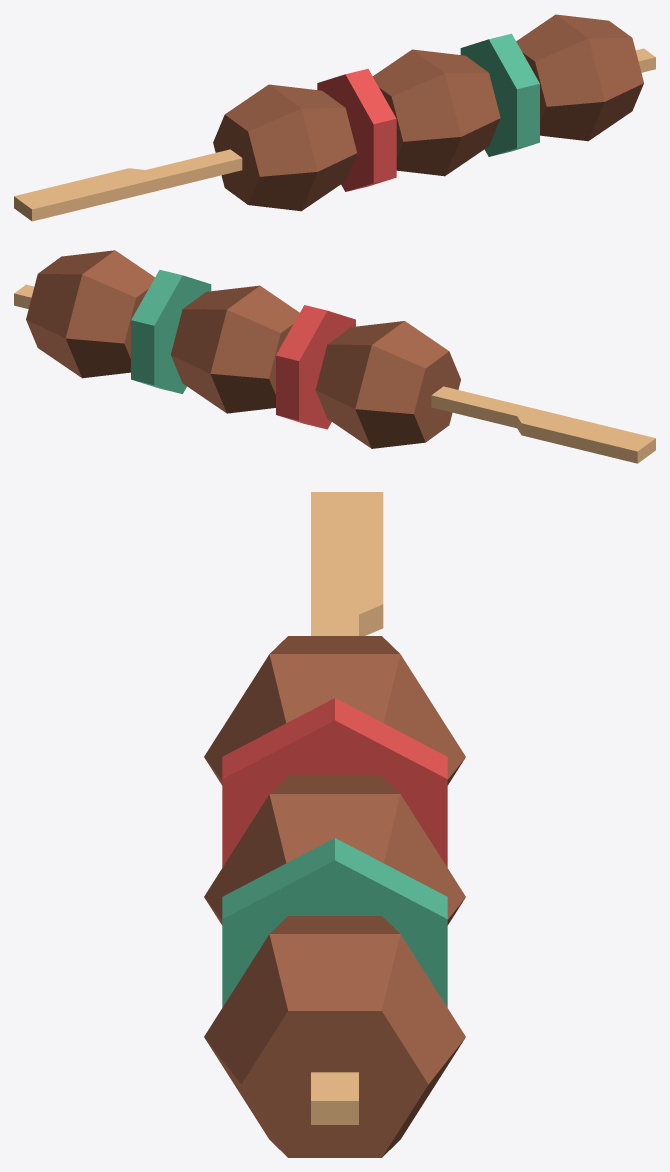
File: skewerVegetables.obj
3 renders of one model, top to bottom at view 1: azimuth 30°, elevation 25°; view 2: azimuth 150°, elevation 25°; view 3: azimuth 270°, elevation 25°, orthographic. The views are drawn at different scales.
Parts seen in each view (by area): view 1: meat, vegetables, skewerVegetables; view 2: meat, vegetables, skewerVegetables; view 3: meat, vegetables, skewerVegetables.
Boxes of the visible parts, box(x1,y1,x2,y2) form: meat: box(213, 14, 643, 211); vegetables: box(317, 33, 539, 191); skewerVegetables: box(14, 48, 655, 221); meat: box(26, 250, 460, 448); vegetables: box(131, 269, 355, 429); skewerVegetables: box(14, 284, 655, 463); meat: box(204, 636, 465, 1157); vegetables: box(222, 698, 447, 1007); skewerVegetables: box(311, 492, 383, 1124).
Bounding box in the file's own units: 0.5967 × 0.1077 × 0.1085.
